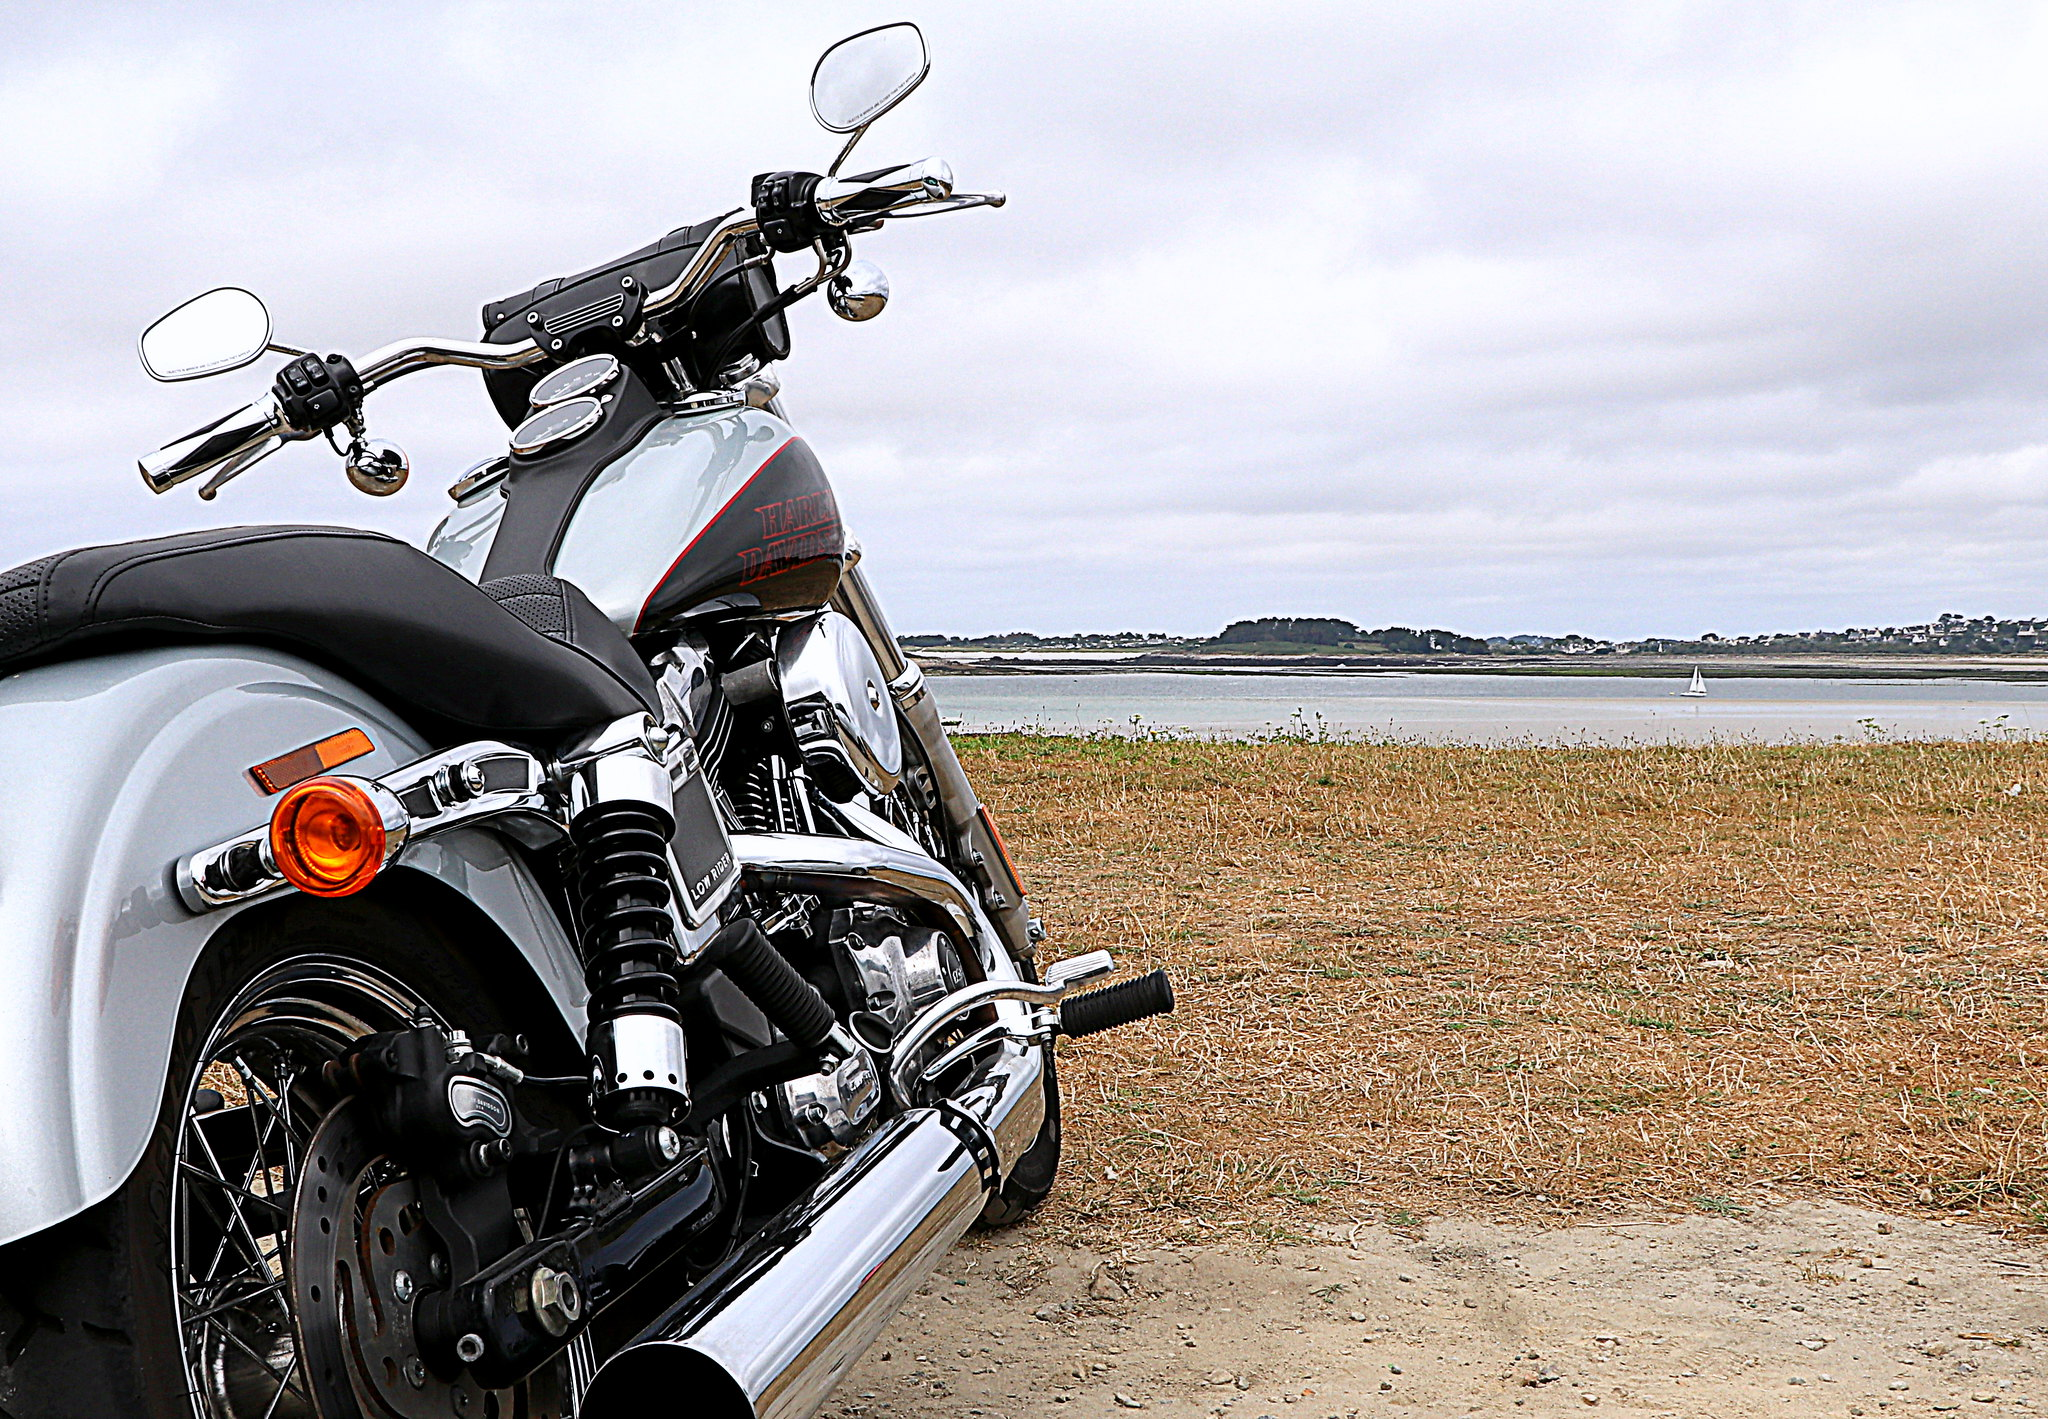motor bike: (2, 23, 1153, 1419)
